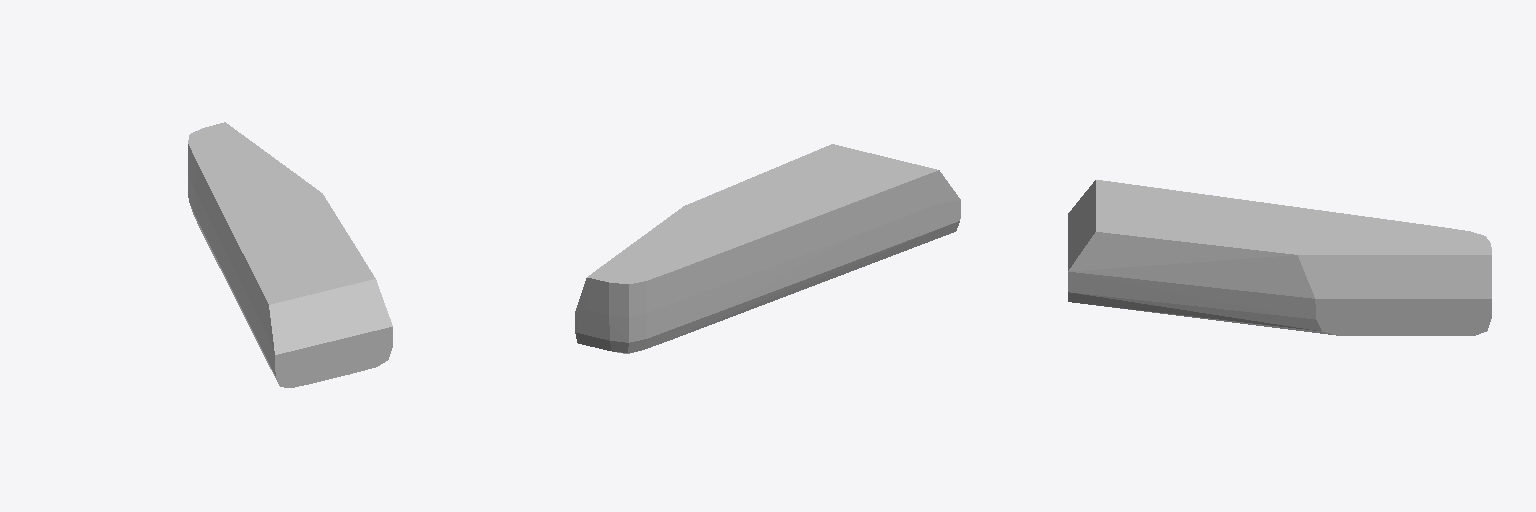
Rendered from pentagon_collision_68.obj.
3 views of the same model, side by side, from view 1: azimuth 30°, elevation 25°; view 2: azimuth 150°, elevation 25°; view 3: azimuth 270°, elevation 25° (orthographic).
Bounding box in the file's own units: 0.0043 × 0.0018 × 0.0091.